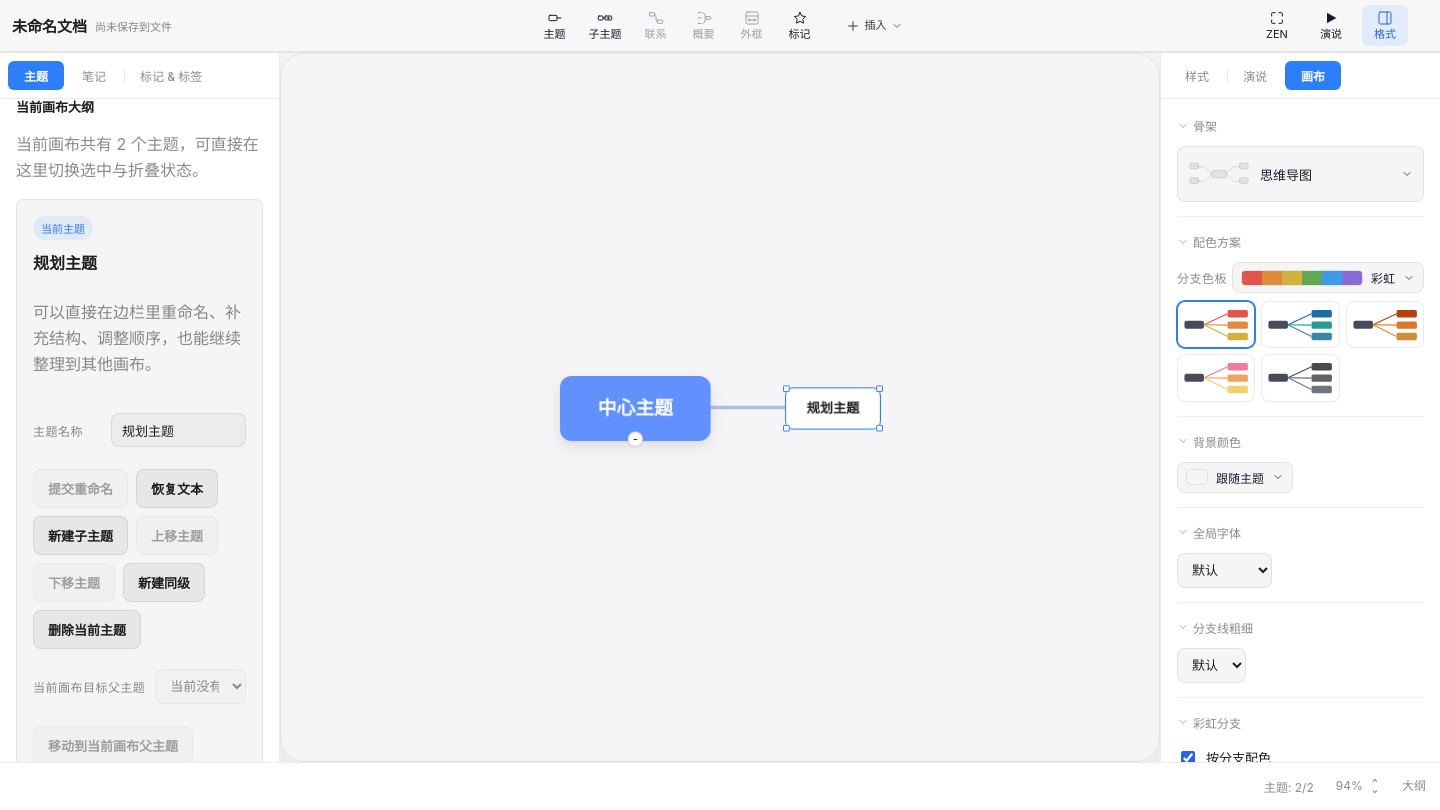
Test: restores the sidebar rename draft with Escape
(page scrolled)
Replace the text in the field labelled "主题名称" with "临时草稿" at (178, 430), box x1=111 y1=413 x2=246 y2=447
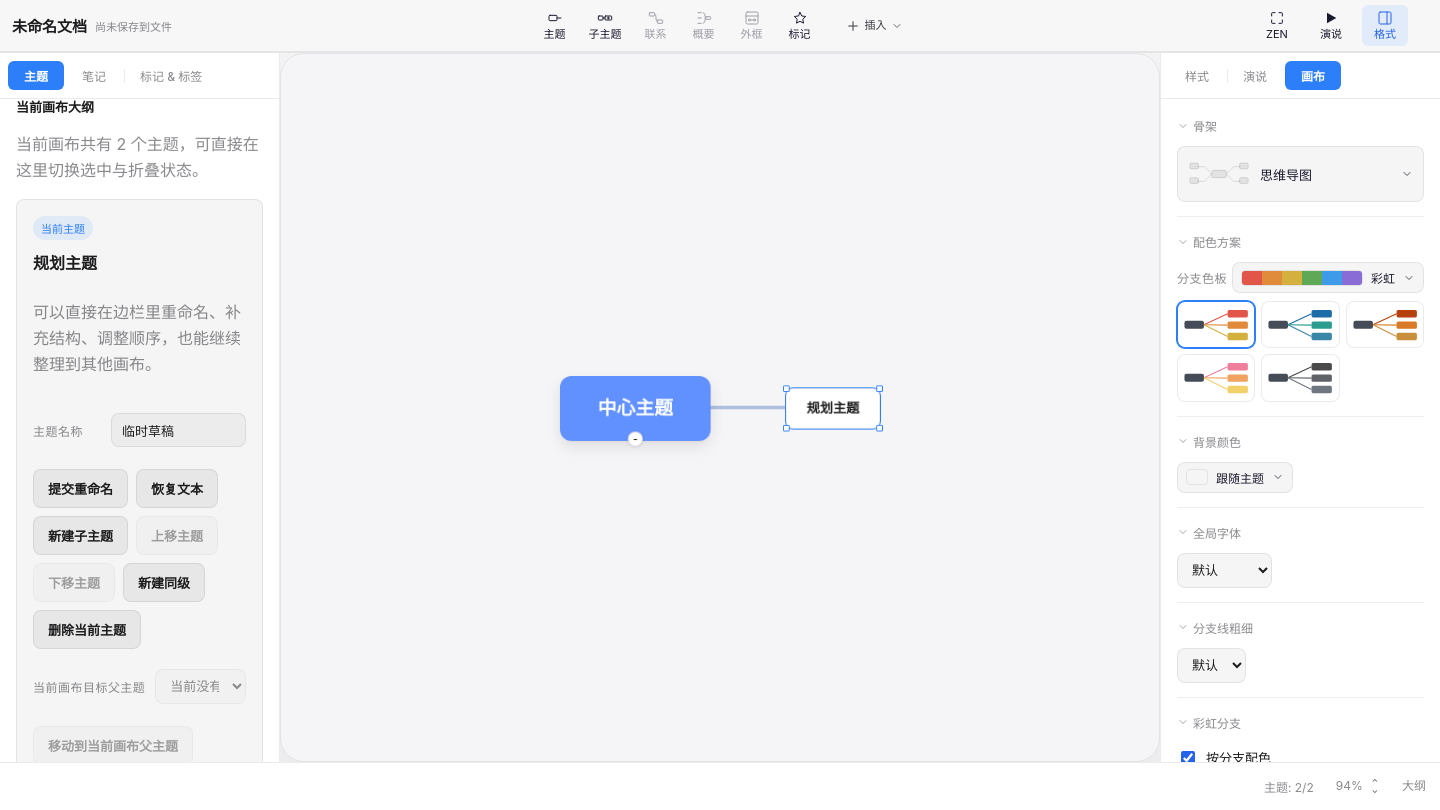
Press Escape in the field labelled "主题名称", box x1=111 y1=413 x2=246 y2=447
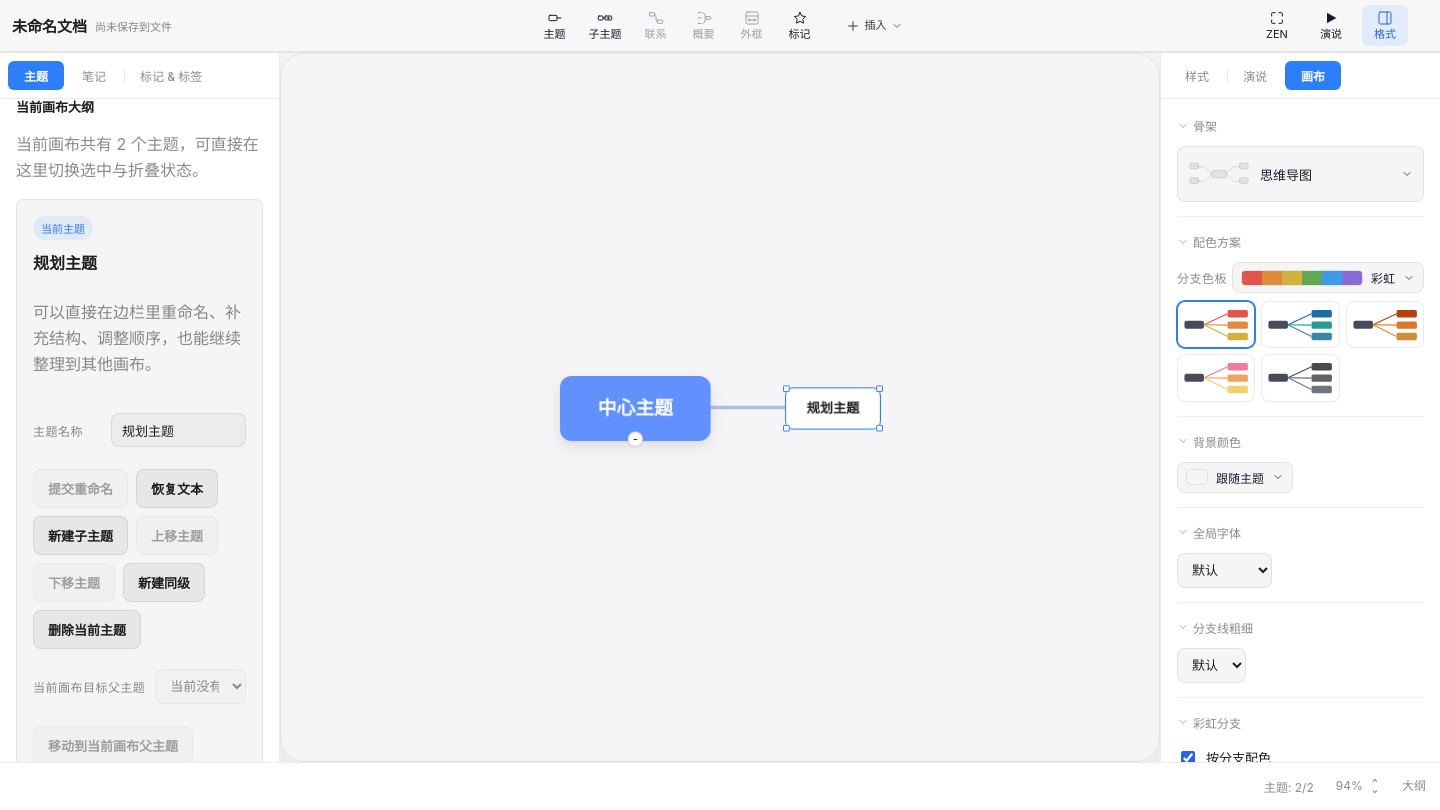
Now the field labelled "主题名称" holds "规划主题", box x1=111 y1=413 x2=246 y2=447
